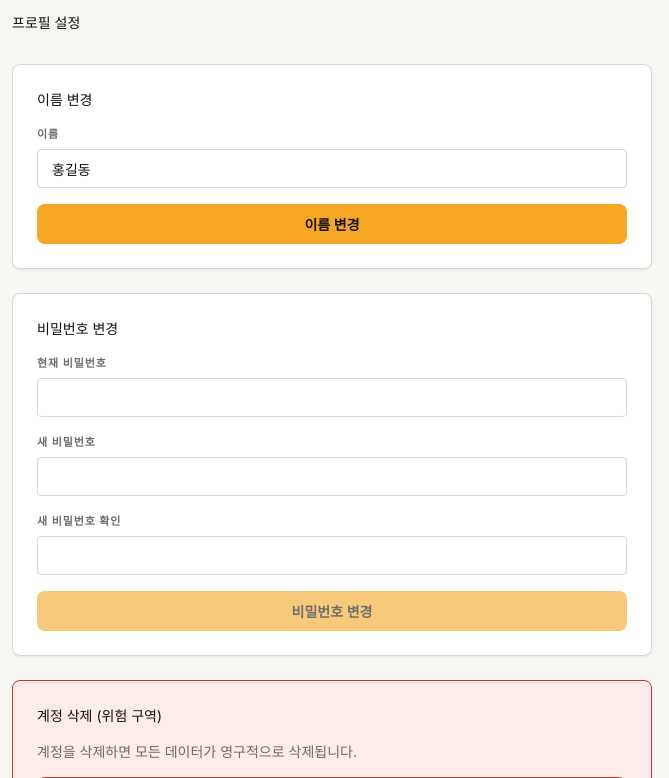
Test: ProfilePage › 비밀번호 변경 섹션 › 새 비밀번호 형식 불량 시 클라이언트 에러를 표시한다
Type "current1" into the password field labelled "현재 비밀번호".
click(332, 398); type("current1")  # box top-left (37, 378), bottom-right (627, 417)
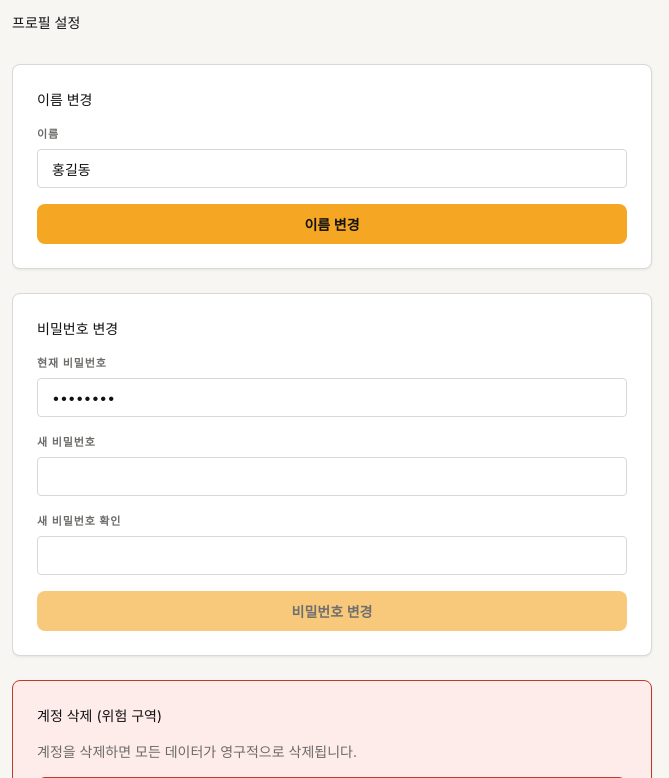
Type "short" into the password field labelled "새 비밀번호".
click(332, 476); type("short")  # box top-left (37, 457), bottom-right (627, 496)
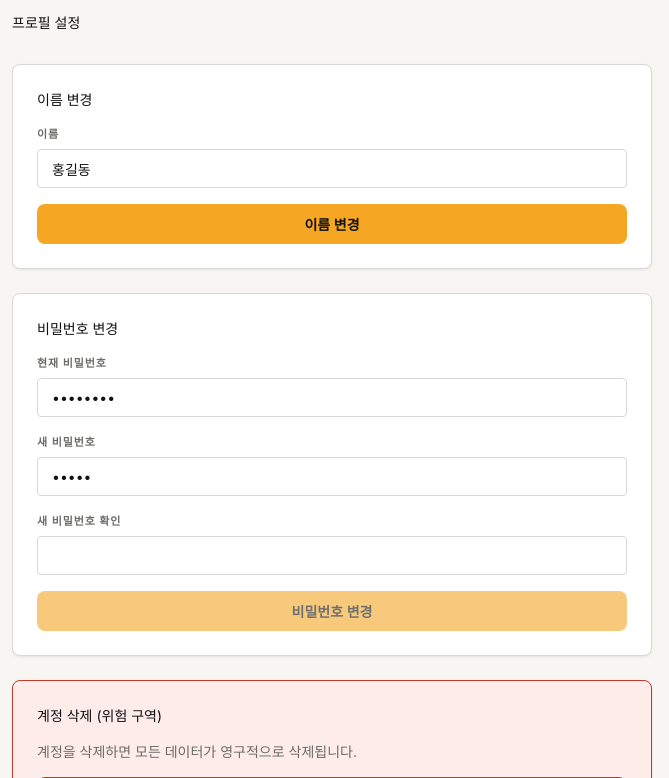
Type "short" into the password field labelled "새 비밀번호 확인".
click(332, 556); type("short")  # box top-left (37, 536), bottom-right (627, 575)
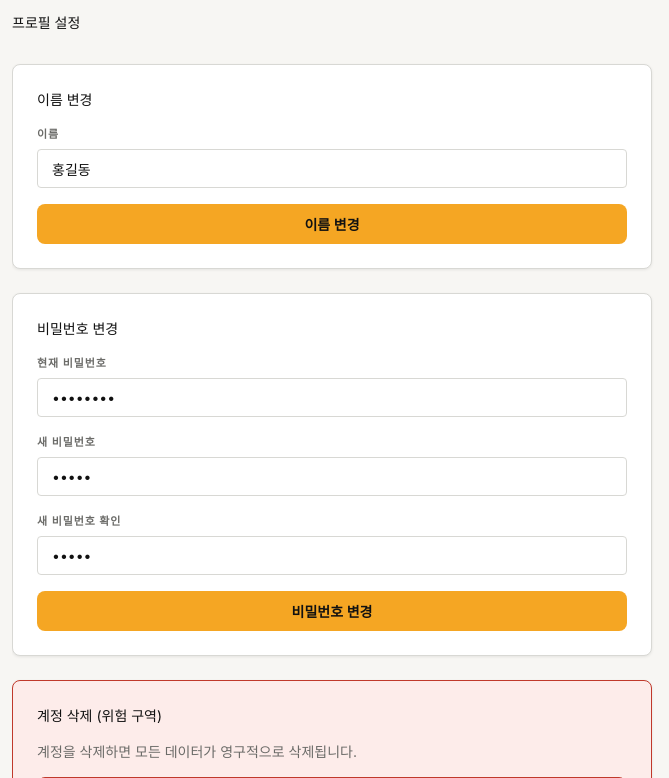
Click the button "비밀번호 변경".
click(332, 611)  # box top-left (37, 591), bottom-right (627, 631)
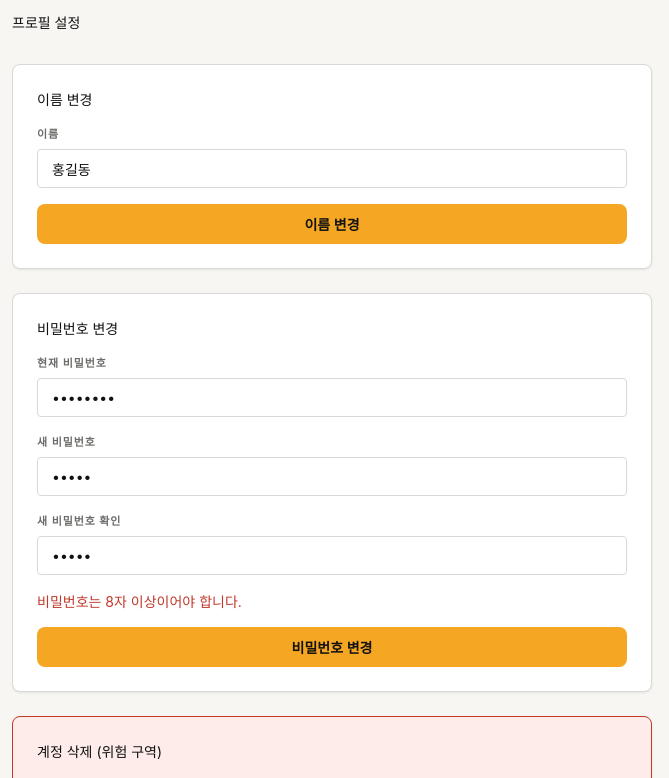
Result: the text "비밀번호는 8자 이상이어야 합니다." is shown at top-left (37, 593), bottom-right (242, 610)
